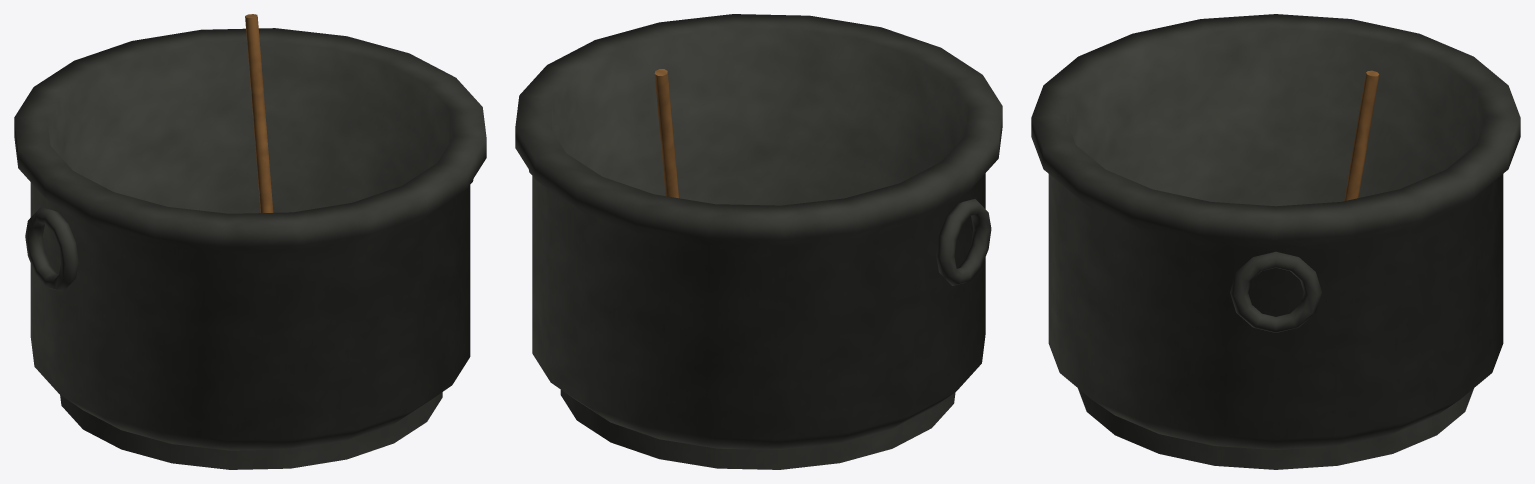
File: Furn_StockPot.fbx
The picture shows the model from 3 angles, left to right: view 1: azimuth 30°, elevation 25°; view 2: azimuth 150°, elevation 25°; view 3: azimuth 270°, elevation 25°; orthographic projection. The views are drawn at different scales.
Visible parts, largest first — view 1: Furn_StockPot_Mesh; view 2: Furn_StockPot_Mesh; view 3: Furn_StockPot_Mesh.
Boxes of the visible parts, x1=… form: Furn_StockPot_Mesh: x1=14, y1=14, x2=486, y2=469; Furn_StockPot_Mesh: x1=515, y1=14, x2=1002, y2=469; Furn_StockPot_Mesh: x1=1031, y1=14, x2=1520, y2=469.
Bounding box in the file's own units: 0.9 × 0.7 × 0.9.
